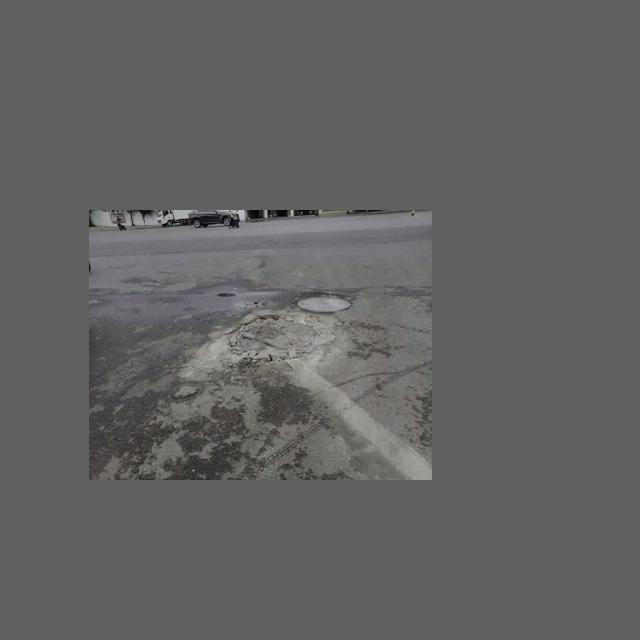circle: (201, 309, 333, 385)
